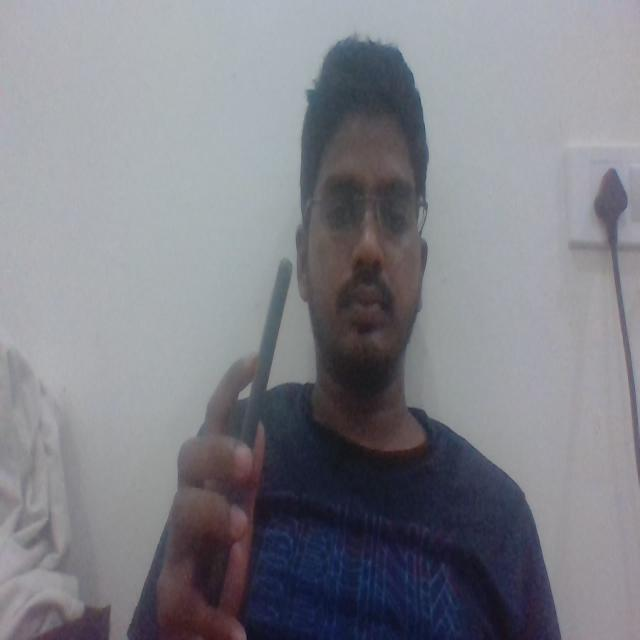Phone: (238, 252, 296, 453)
